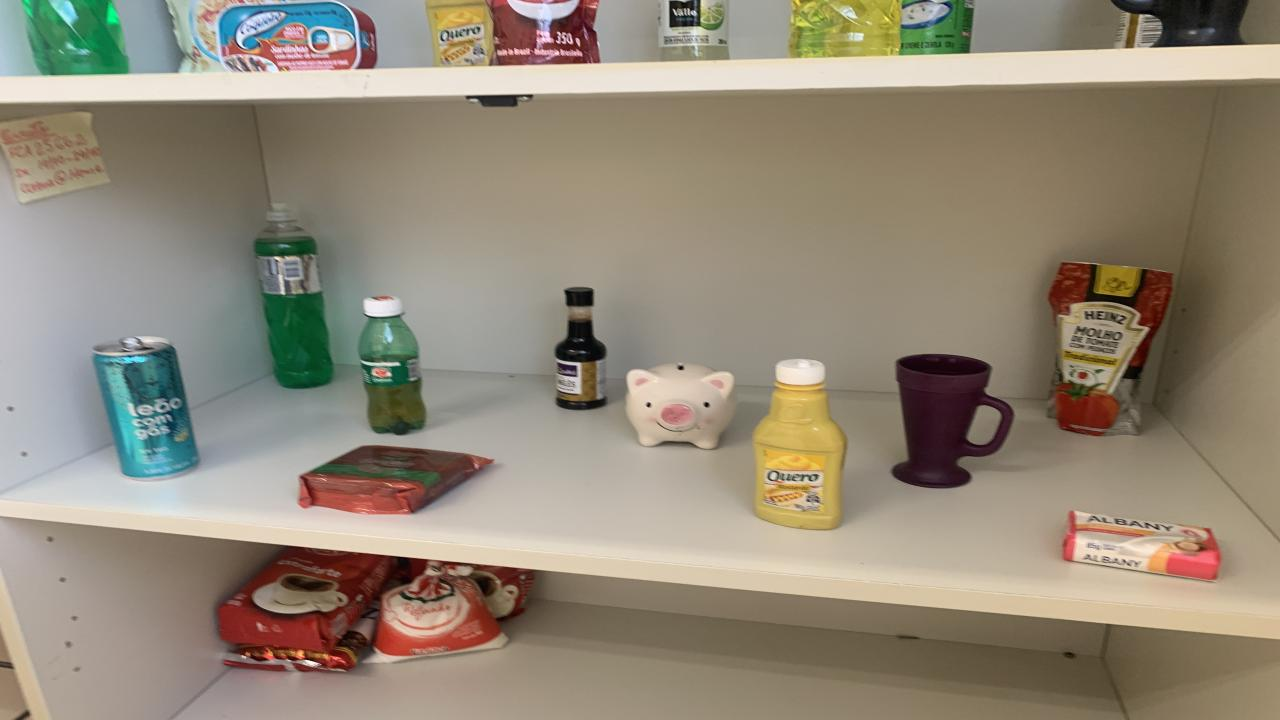Coffee-Pantry_Items: (488, 0, 600, 66)
Detergent-Cleanup_Items: (255, 204, 332, 388), (22, 0, 130, 75), (788, 0, 900, 58)
English_Sauce-Pantry_Items: (555, 287, 608, 409), (1112, 11, 1162, 49)
Flakes-Snacks: (168, 0, 245, 73)
Guarana-Drinks: (358, 296, 425, 435)
Guava-Snacks: (300, 446, 492, 514)
Mustard-Pantry_Items: (752, 360, 848, 529), (488, 0, 600, 66), (425, 0, 495, 68)
Pig_Safe-Miscellaneous: (625, 364, 738, 450)
Pringles-Snacks: (900, 0, 975, 54)
Soap-Cleanup_Items: (1062, 512, 1220, 581)
Soda-Drinks: (658, 0, 730, 62)
Tea-Drinks: (92, 336, 200, 480)
Tomato_Sauce-Pantry_Items: (1048, 262, 1172, 435)
Tuna_Can-Pantry_Items: (200, 0, 378, 73)
